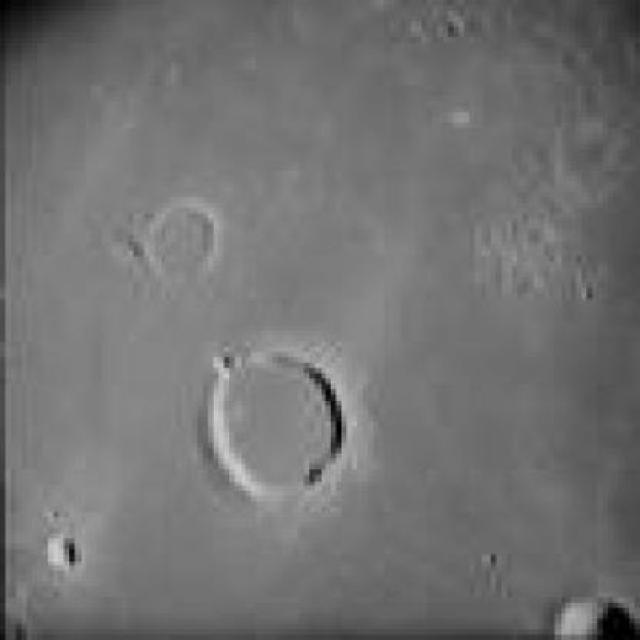crater: (211, 351, 343, 502)
